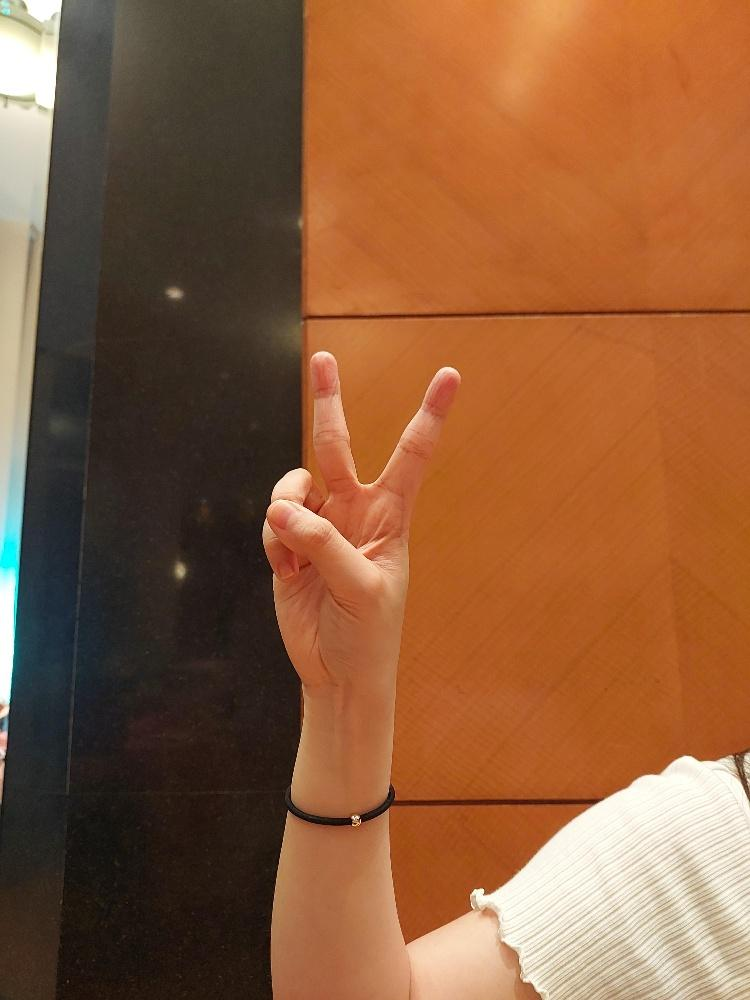v: (260, 349, 464, 689)
